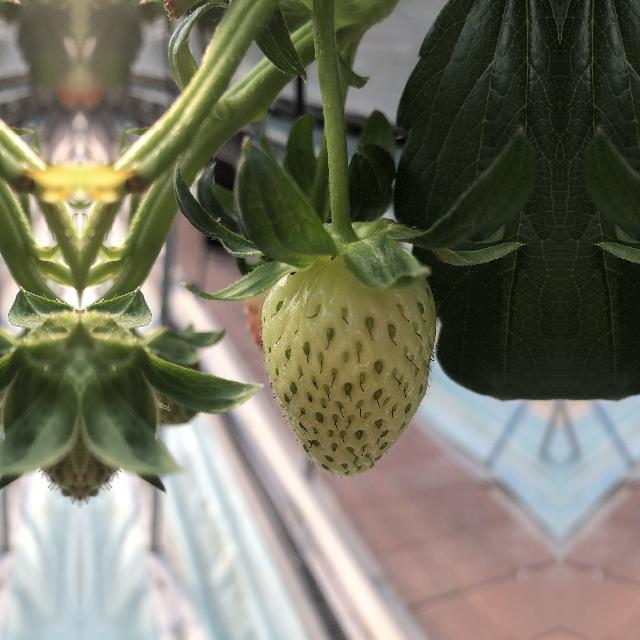Health_25: (258, 242, 438, 480)
